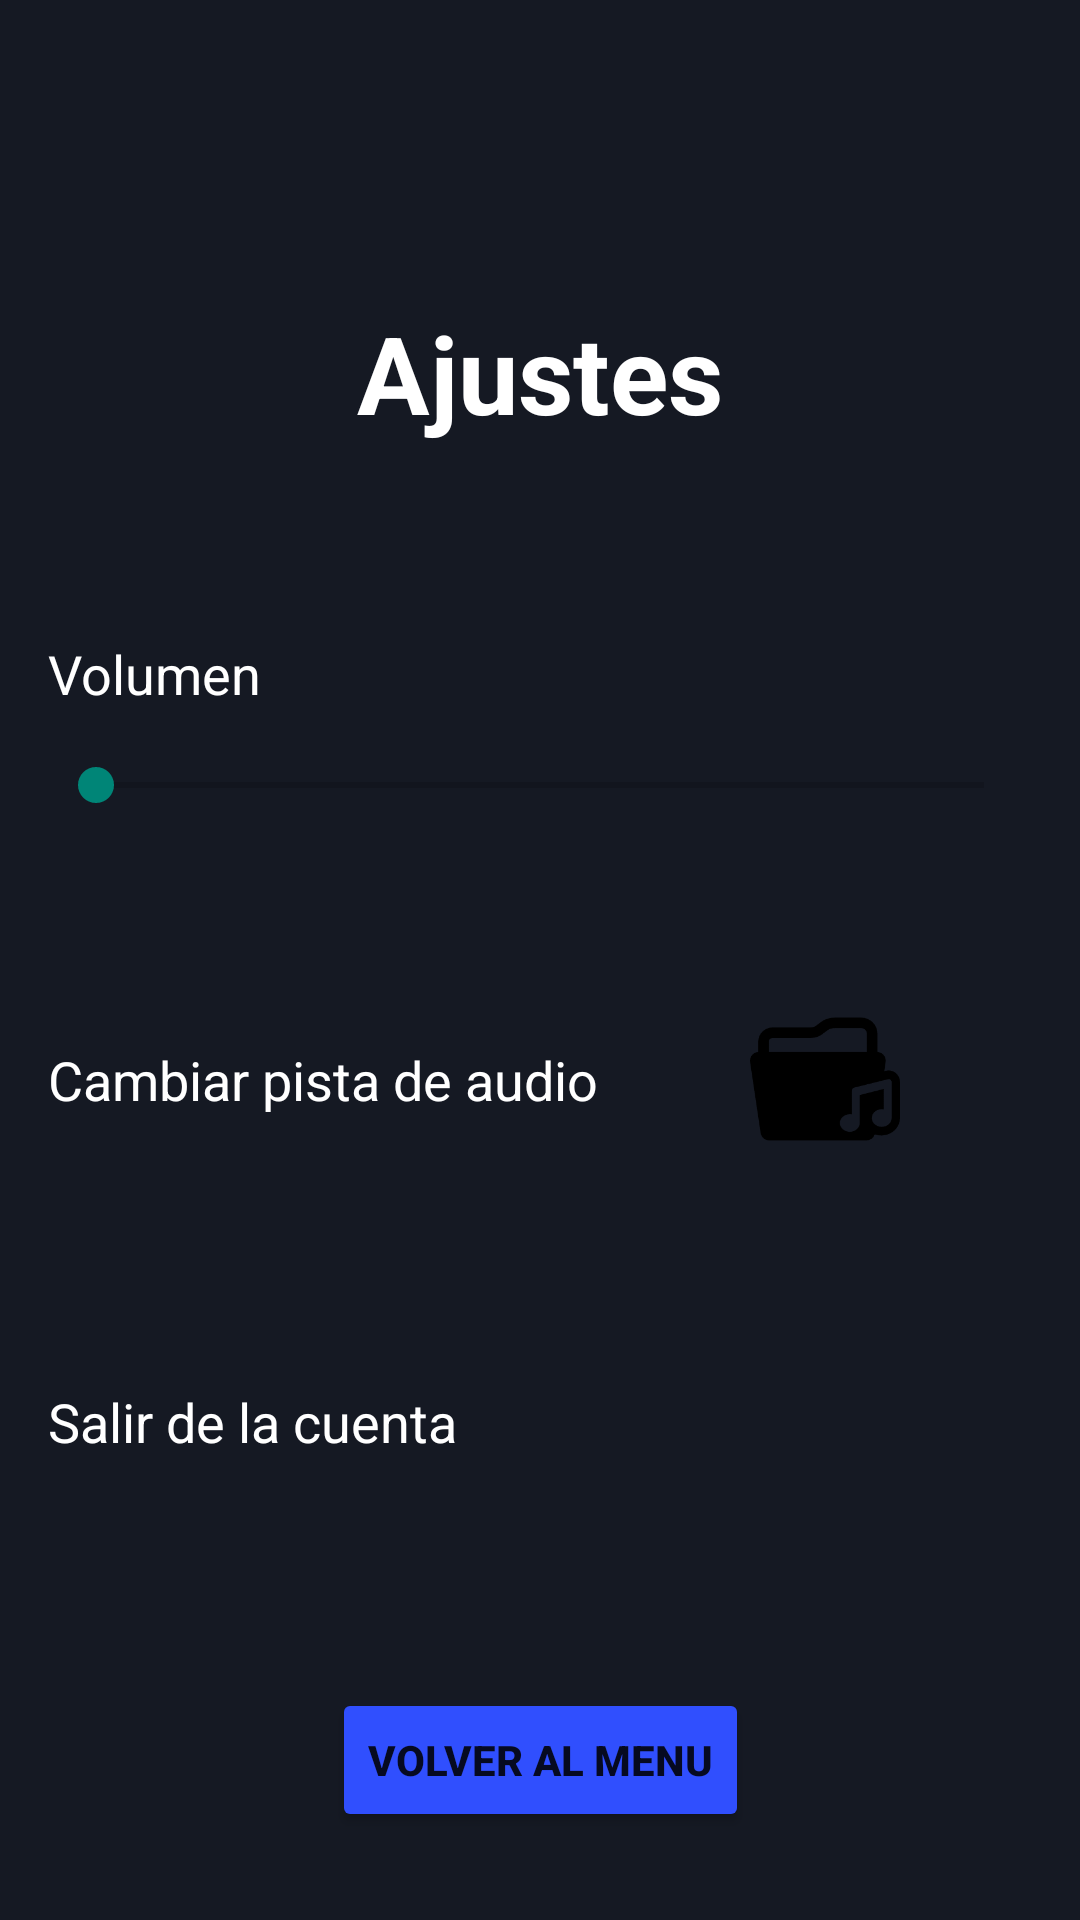

Named icons in this screenshot (1080w x 1920h) and their centers, (x=x, y=y):
Abrir carpeta de pistas de audio: (x=825, y=1079)
